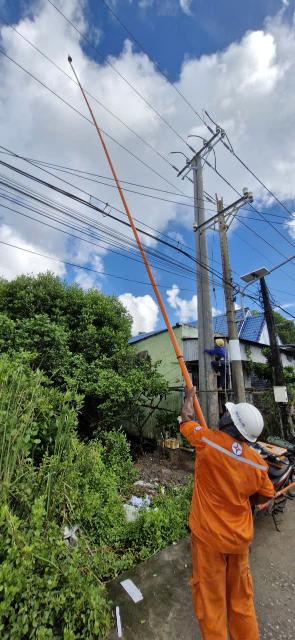gloves: (175, 381, 200, 431)
harness: (213, 354, 235, 364)
helmet: (224, 398, 272, 447), (208, 333, 232, 350)
shoes: (216, 384, 226, 392), (212, 372, 225, 376)
